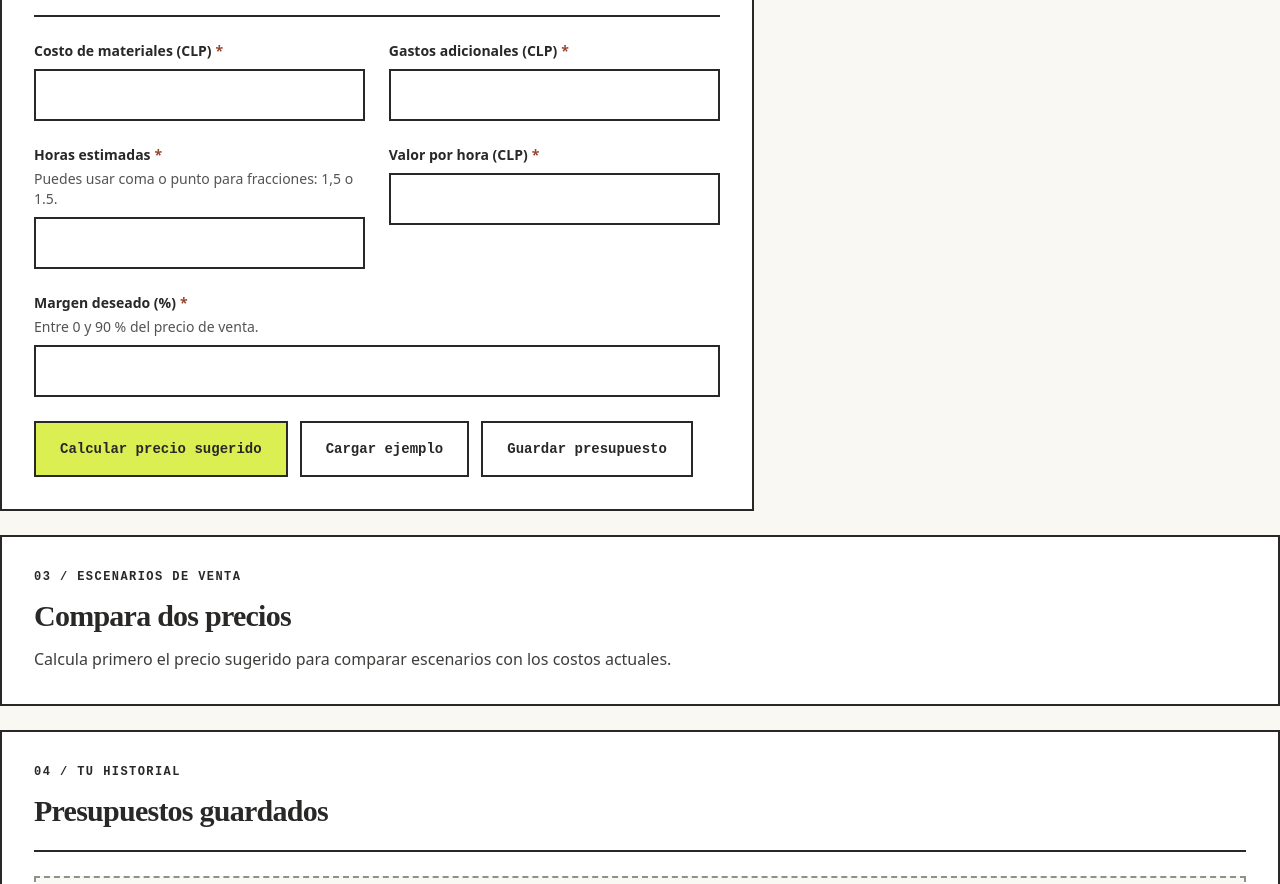
Test case: Calculadora › enfoca el primer campo inválido y anuncia el resumen de errores
(page scrolled)
Step 1. Click the button "Calcular precio sugerido" → [161, 448], box [34,420,288,476]
(page scrolled)
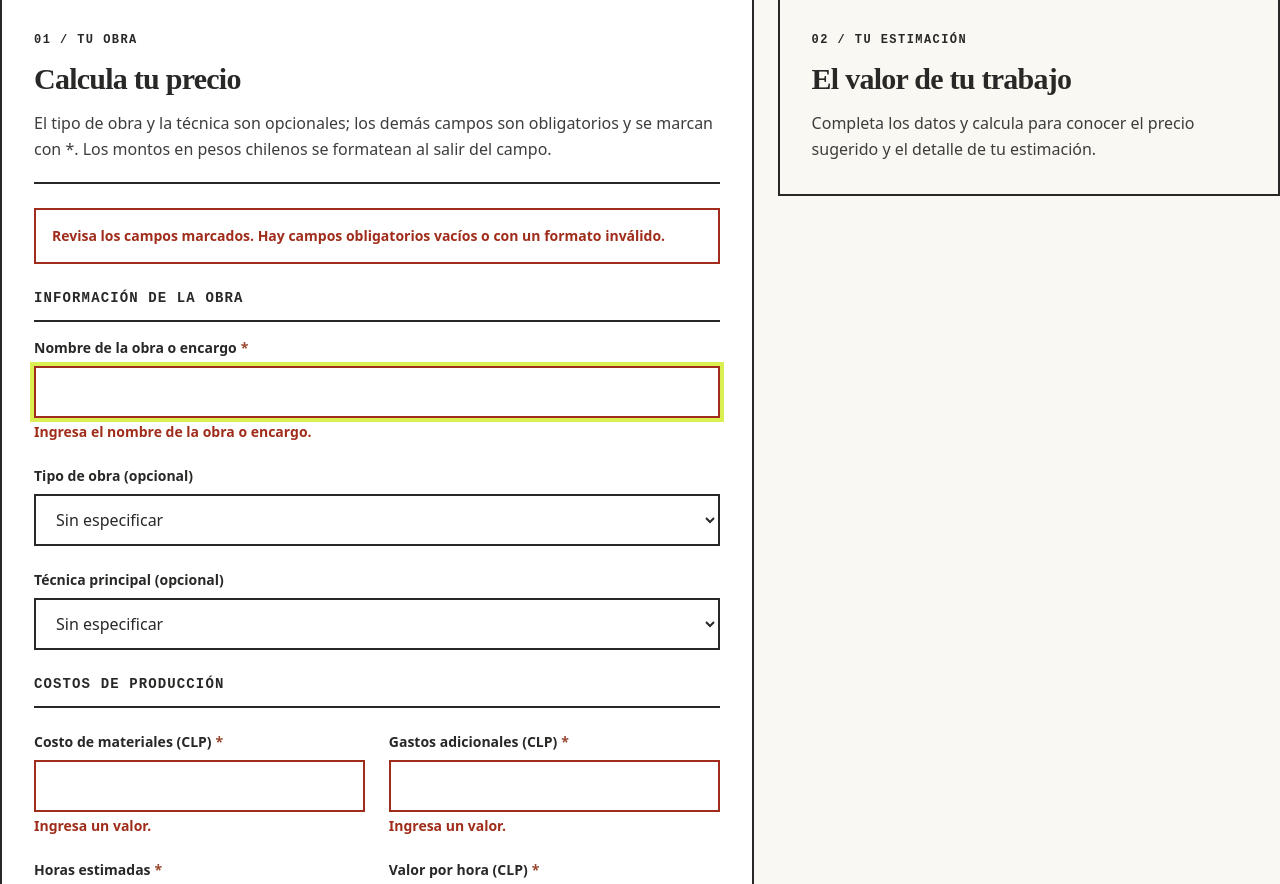
Check: the message shows "Revisa los campos marcados", box [52,226,665,244]
